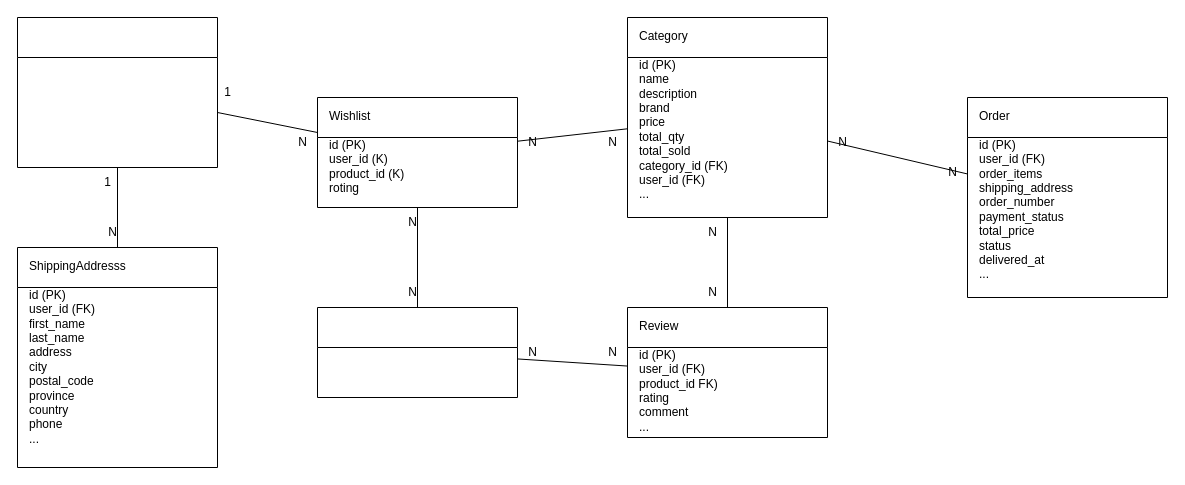
Image size: 1185x485. Some labels were removed from this diagram. Each missing label, with the centre of its shape:
"ProductImage id (PK) product_id FK) ..." goes at (x=417, y=352).
"User id (PK) email fullname has_shipping_address ..." goes at (x=117, y=92).
